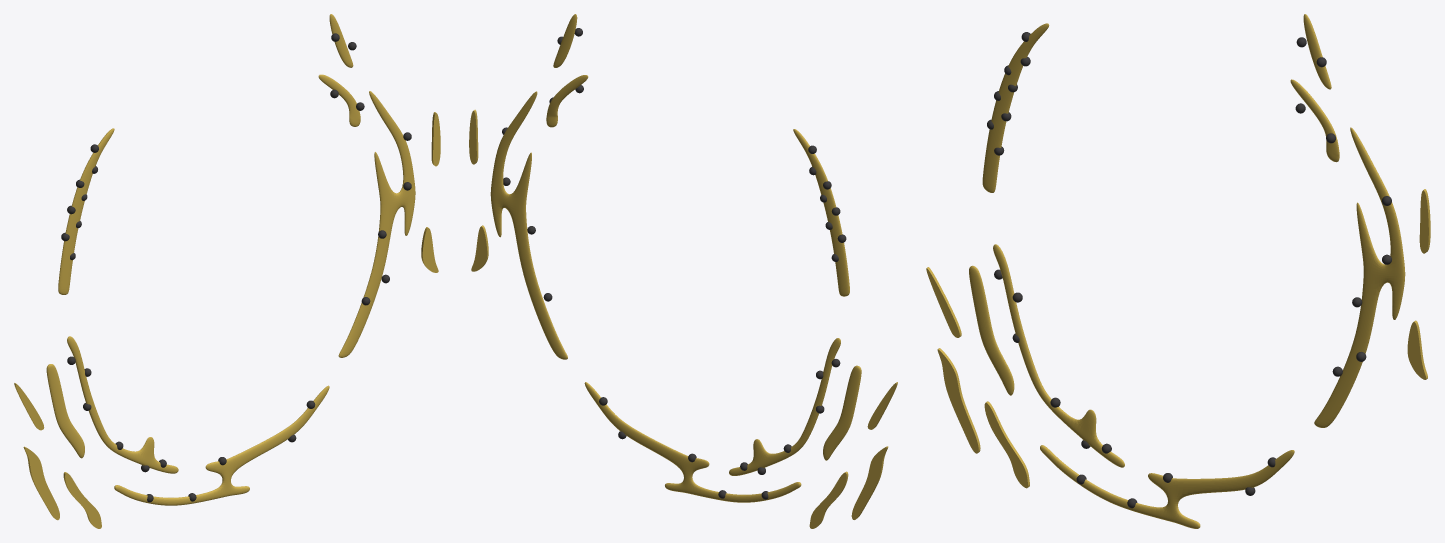
The model's file is granuls.fbx.
The picture shows the model from 3 angles, left to right: view 1: azimuth 30°, elevation 25°; view 2: azimuth 150°, elevation 25°; view 3: azimuth 330°, elevation 25°; orthographic projection. The views are drawn at different scales.
Visible parts, largest first — view 1: Cube.006, Cube.013; view 2: Cube.006, Cube.013; view 3: Cube.006, Cube.013.
Part boxes in pixels (x1,y1,x2,y2): Cube.006: [46, 14, 415, 505]; Cube.013: [14, 112, 440, 528]; Cube.006: [490, 14, 861, 502]; Cube.013: [469, 109, 897, 528]; Cube.006: [969, 14, 1405, 528]; Cube.013: [926, 189, 1430, 488].
Bounding box in the file's own units: 51.41 × 52.71 × 1.74.
